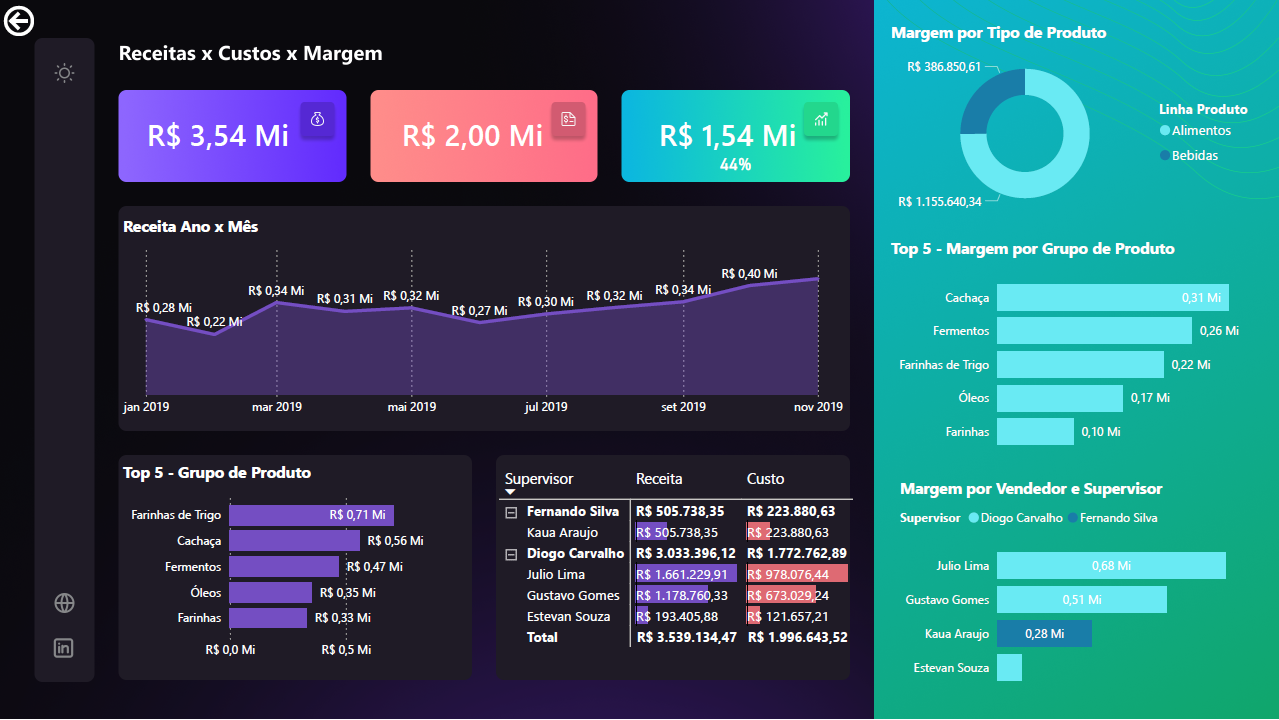

Layout of this report page (visuals, bound fields, positions):
{"tool":"powerbi","page":{"name":"Página 1","canvas":[1280,720],"ordinal":0},"visuals":[{"type":"pivotTable","fields":{"Rows":["Vendas.Supervisor","Vendas.Vendedor"],"Values":["Vendas.$ Receita","Vendas.$ Custo"]},"box":[495.7,460,364.3,220],"z":0},{"type":"barChart","title":"Top 5 - Grupo de Produto","fields":{"Category":["Produto.Grupo Produto"],"Y":["Vendas.$ Receita"]},"box":[118.6,460,360,207.1],"z":1000},{"type":"actionButton","box":[0,0,100,40],"z":2000},{"type":"cardVisual","title":"Receita","fields":{"Data":["Vendas.$ Receita"]},"box":[118.6,65.7,264.3,131.4],"z":3000},{"type":"cardVisual","fields":{"Data":["Vendas.$ Margem"]},"box":[631.4,80,264.3,102.9],"z":4000},{"type":"stackedAreaChart","title":"Receita Ano x Mês","fields":{"Category":["Vendas.Data.Variation.Hierarquia de datas.Ano","Vendas.Data.Variation.Hierarquia de datas.Mês","Vendas.Data.Variation.Hierarquia de datas.Dia"],"Y":["Vendas.$ Receita"]},"box":[118.6,214.3,730,210],"z":5000},{"type":"donutChart","title":"Margem por Tipo de Produto","fields":{"Category":["Produto.Linha Produto"],"Y":["Vendas.$ Margem"]},"box":[887.1,20,382.9,204.3],"z":6000},{"type":"barChart","title":"Top 5 - Margem por Grupo de Produto","fields":{"Category":["Produto.Grupo Produto"],"Y":["Vendas.$ Margem"]},"box":[887.1,235.7,382.9,227.1],"z":7000},{"type":"barChart","title":"Margem por Vendedor e Supervisor","fields":{"Y":["Vendas.$ Margem"],"Category":["Vendas.Vendedor"],"Series":["Vendas.Supervisor"]},"box":[895.7,475.7,374.3,222.9],"z":8000},{"type":"cardVisual","fields":{"Data":["Vendas.$ Custo"]},"box":[374.3,74.3,288.6,114.3],"z":9000},{"type":"card","fields":{"Values":["Vendas.% Margem Percentual"]},"box":[678.5,139,115.6,49.5],"z":9001}]}

Visuals, with their boxes on the page's 1280x720 design canvas (x1, y1, x2, y2). These are canvas units, not pixel positions in the 1279x720 screenshot, which may show the page scaled, cropped or inside an application window:
pivotTable - Vendas.Supervisor x Vendas.Vendedor: <box>496,460,860,680</box>
"Top 5 - Grupo de Produto" barChart: <box>119,460,479,667</box>
actionButton: <box>0,0,100,40</box>
"Receita" cardVisual: <box>119,66,383,197</box>
cardVisual - Vendas.$ Margem: <box>631,80,896,183</box>
"Receita Ano x Mês" stackedAreaChart: <box>119,214,849,424</box>
"Margem por Tipo de Produto" donutChart: <box>887,20,1270,224</box>
"Top 5 - Margem por Grupo de Produto" barChart: <box>887,236,1270,463</box>
"Margem por Vendedor e Supervisor" barChart: <box>896,476,1270,699</box>
cardVisual - Vendas.$ Custo: <box>374,74,663,189</box>
card - Vendas.% Margem Percentual: <box>678,139,794,188</box>
